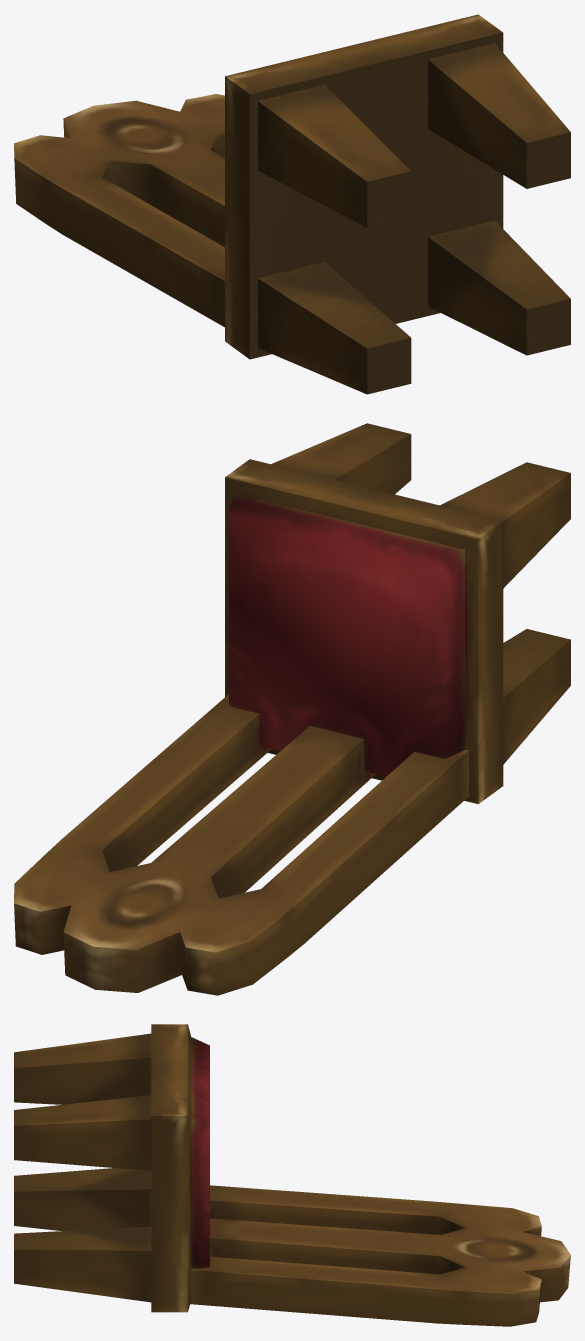
The model's file is props_chair_wood.fbx.
3 views of the same model, one above another, from view 1: azimuth 30°, elevation 25°; view 2: azimuth 150°, elevation 25°; view 3: azimuth 270°, elevation 25° (orthographic). The views are drawn at different scales.
Parts seen in each view (by area): view 1: chair_wood; view 2: chair_wood; view 3: chair_wood.
Part boxes in pixels (box(x1,y1,x2,y2)): chair_wood: box(14, 14, 570, 394); chair_wood: box(14, 423, 570, 995); chair_wood: box(14, 1024, 570, 1326).
Size of the model in its own units: 0.5323 by 0.5899 by 1.37.
1 material, 1 textured.
